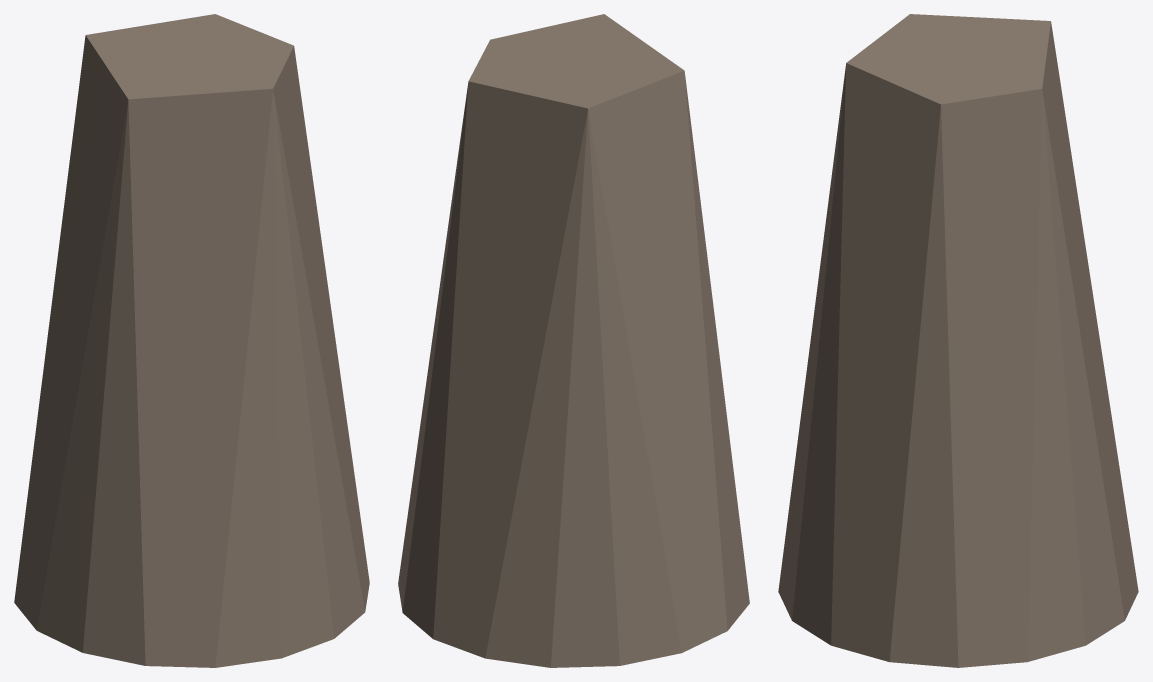
Rendered from trunk1.gltf.
3 views of the same model, side by side, from view 1: azimuth 30°, elevation 25°; view 2: azimuth 150°, elevation 25°; view 3: azimuth 270°, elevation 25° (orthographic).
Visible parts, largest first — view 1: Sphere.056_wood_0; view 2: Sphere.056_wood_0; view 3: Sphere.056_wood_0.
Boxes of the visible parts, x1,y1,x2,y2 form: Sphere.056_wood_0: (14,14,369,667); Sphere.056_wood_0: (398,14,749,667); Sphere.056_wood_0: (778,14,1138,667).
Size of the model in its own units: 0.2206 by 0.3656 by 0.2206.
